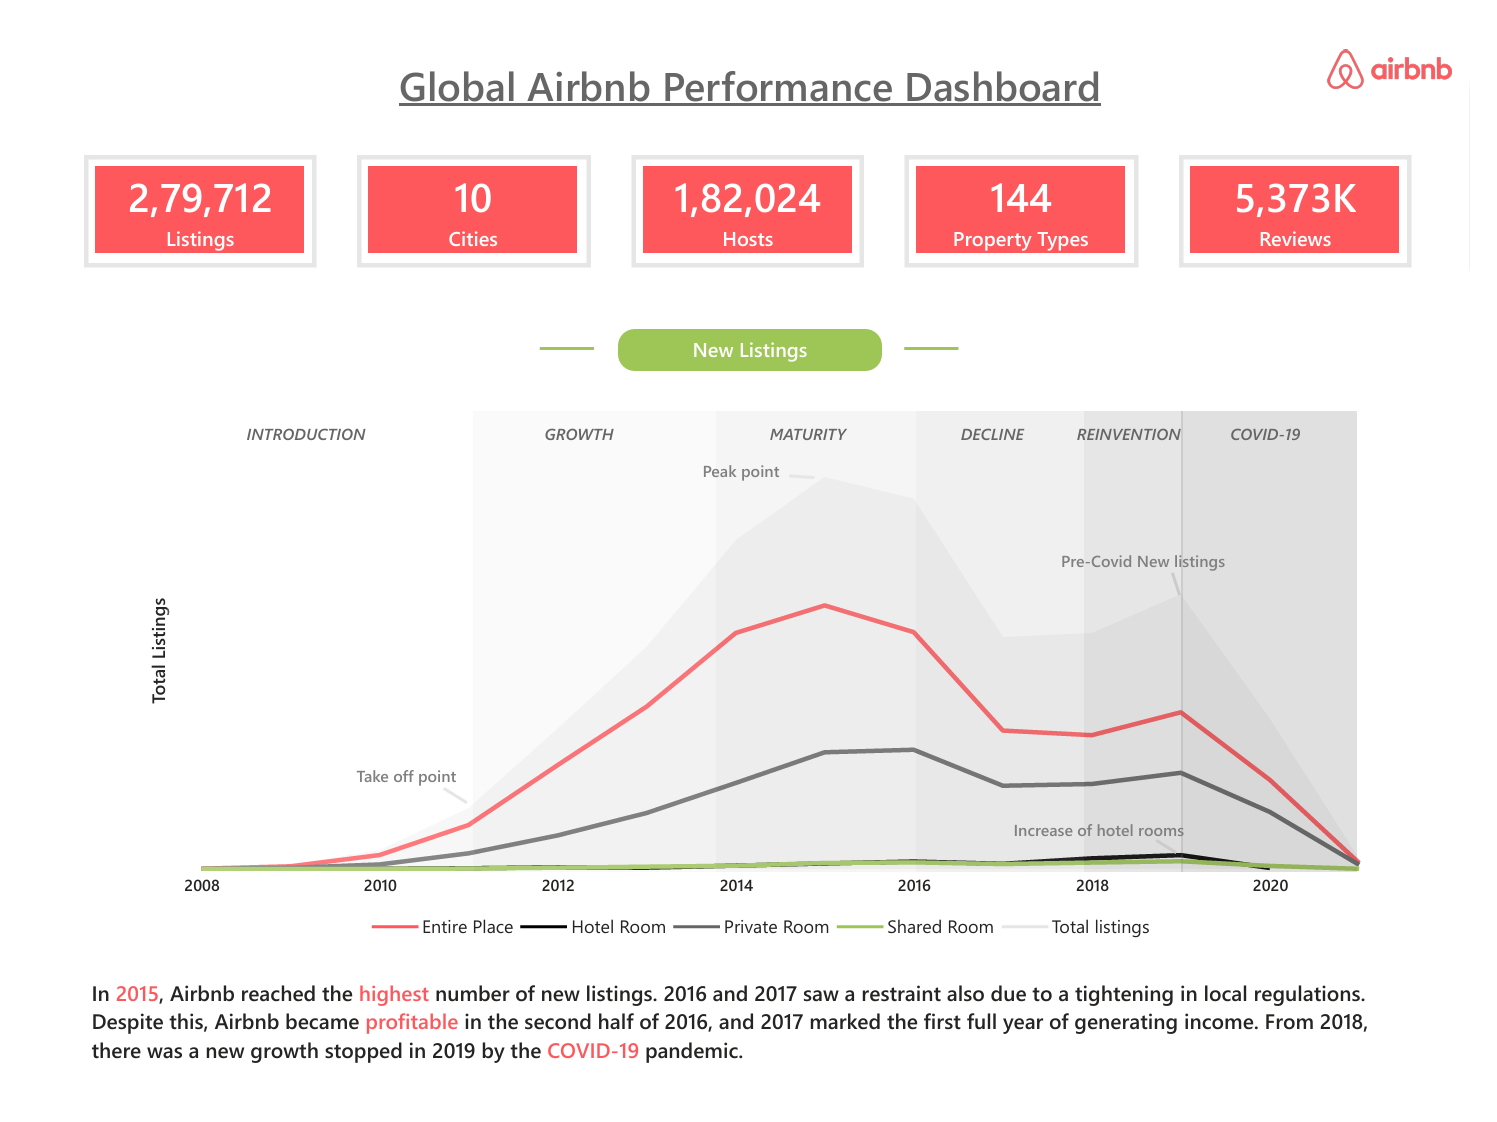

Layout of this report page (visuals, bound fields, positions):
{"tool":"powerbi","page":{"name":"Overview","canvas":[960,720],"ordinal":0},"visuals":[{"type":"textbox","box":[239.9,9.7,480.2,44.6],"z":0},{"type":"image","box":[832.4,16.9,112.2,31.4],"z":1},{"type":"cardVisual","fields":{"Data":["Count(Listings.property_type)"]},"box":[595.7,79.6,155,74],"z":2},{"type":"cardVisual","fields":{"Data":["Count(Listings.host_id)"]},"box":[402.3,79.6,155,74],"z":3},{"type":"cardVisual","fields":{"Data":["Count(Listings.city)"]},"box":[209,79.6,155,74],"z":4},{"type":"cardVisual","fields":{"Data":["CountNonNull(Listings.listing_id)"]},"box":[15.7,79.6,155,74],"z":5},{"type":"cardVisual","fields":{"Data":["Count(Reviews.review_id)"]},"box":[789,78.4,155,74],"z":6},{"type":"lineChart","fields":{"Category":["Listings.host_since.Variation.Date Hierarchy.Year"],"Y":["CountNonNull(Listings.listing_id)","Listings.Hotel Room","Listings.Private Room","Listings.Shared Room","Listings.Entire place"]},"box":[130.7,236.5,698.5,386.1],"z":7},{"type":"textbox","box":[383.6,187,193,41],"z":8},{"type":"textbox","box":[42.2,659.9,874.7,38.6],"z":9},{"type":"shape","box":[311.3,189.4,51.9,35],"z":10},{"type":"shape","box":[596,190.6,51.9,35],"z":11}]}

Visuals, with their boxes in screenshot pixels (x1, y1, x2, y2), scaled from the page's 960x720 canvas onto the 1497x1122 screenshot:
textbox: {"x1": 374, "y1": 15, "x2": 1123, "y2": 85}
image: {"x1": 1298, "y1": 26, "x2": 1473, "y2": 75}
cardVisual - Count(Listings.property_type): {"x1": 929, "y1": 124, "x2": 1171, "y2": 239}
cardVisual - Count(Listings.host_id): {"x1": 627, "y1": 124, "x2": 869, "y2": 239}
cardVisual - Count(Listings.city): {"x1": 326, "y1": 124, "x2": 568, "y2": 239}
cardVisual - CountNonNull(Listings.listing_id): {"x1": 24, "y1": 124, "x2": 266, "y2": 239}
cardVisual - Count(Reviews.review_id): {"x1": 1230, "y1": 122, "x2": 1472, "y2": 237}
lineChart - Listings.host_since.Variation.Date Hierarchy.Year x CountNonNull(Listings.listing_id): {"x1": 204, "y1": 369, "x2": 1293, "y2": 970}
textbox: {"x1": 598, "y1": 291, "x2": 899, "y2": 355}
textbox: {"x1": 66, "y1": 1028, "x2": 1430, "y2": 1088}
shape: {"x1": 485, "y1": 295, "x2": 566, "y2": 350}
shape: {"x1": 929, "y1": 297, "x2": 1010, "y2": 352}
